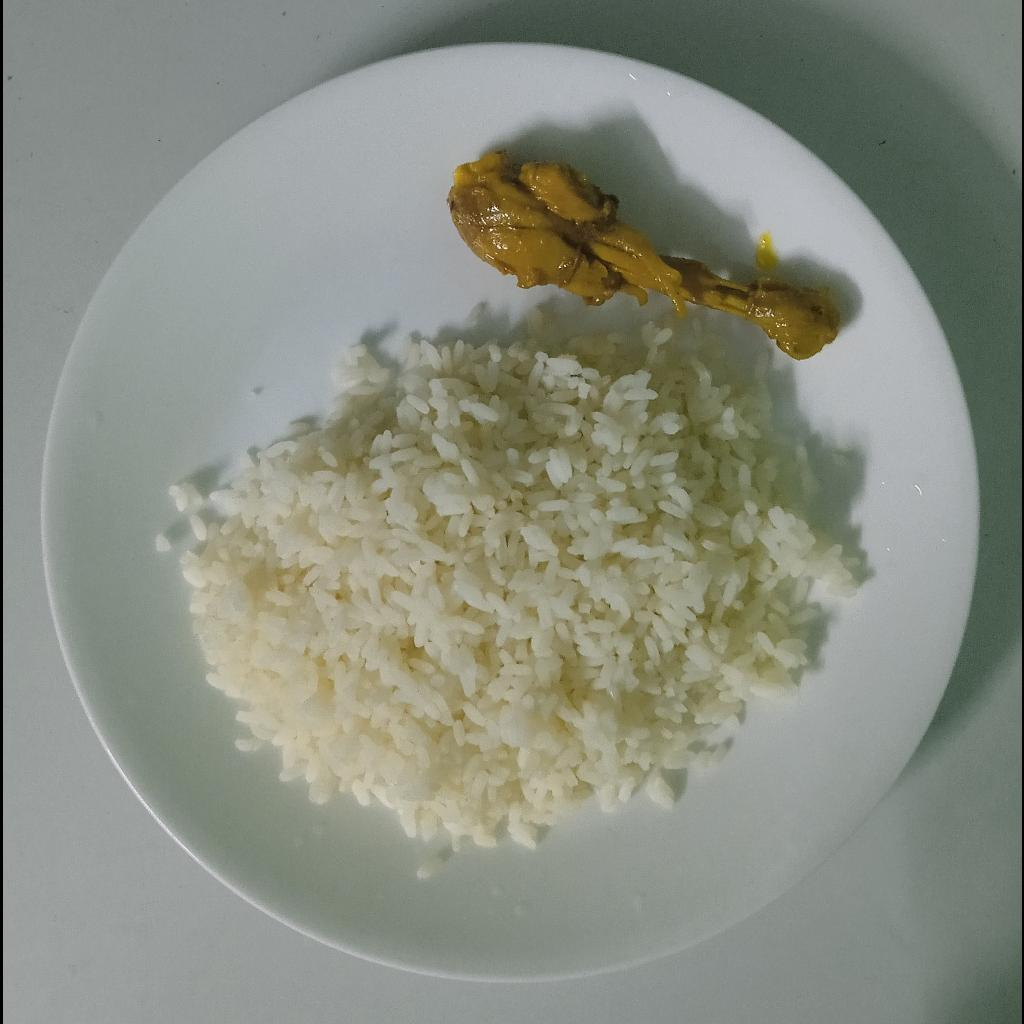chicken: (449, 153, 842, 357)
rice: (166, 316, 864, 880)
